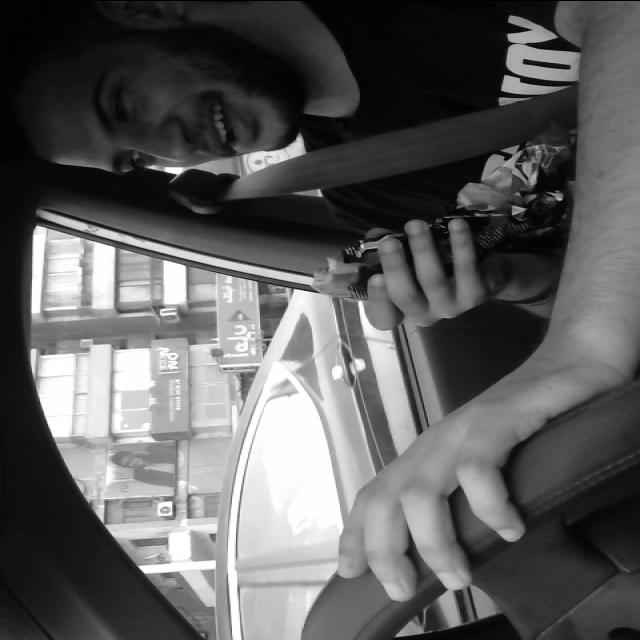eating: (303, 116, 577, 306)
